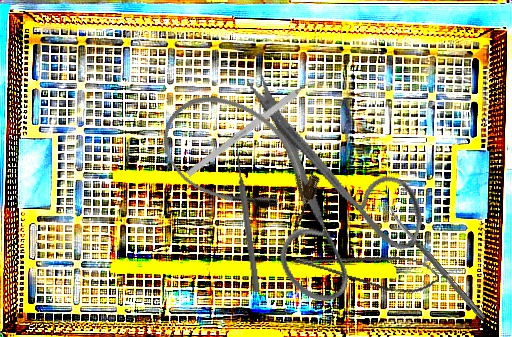Cannula: (144, 74, 339, 245)
Hook Surgical: (185, 71, 323, 178)
Iris Scissors: (182, 65, 453, 327)
Micro Scissor: (293, 231, 442, 302)
Pusher: (232, 146, 262, 293)
Surgical Spoon: (383, 203, 488, 322)
